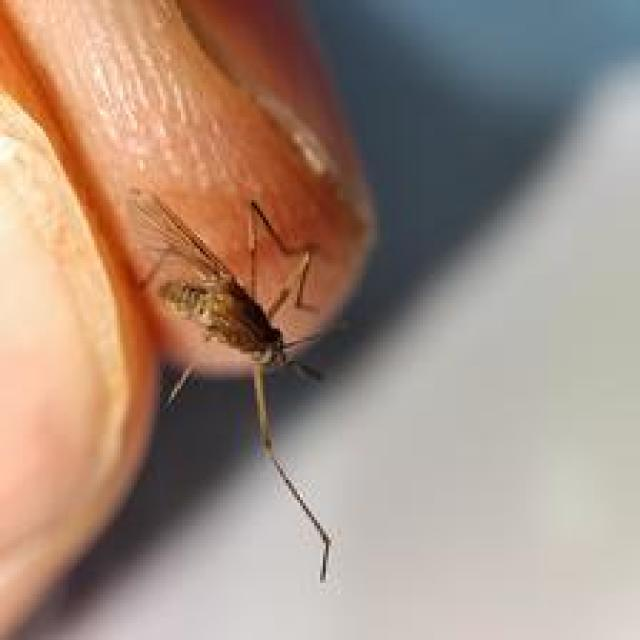Culex: (126, 184, 337, 582)
